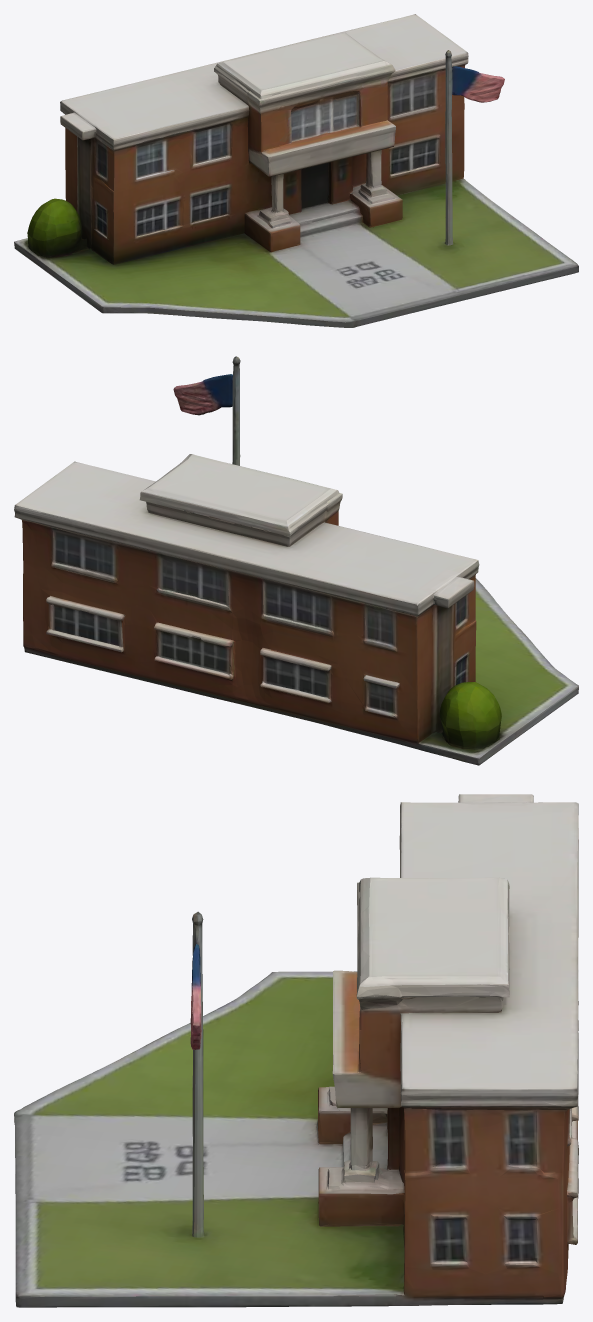
The model's file is school.glb.
3 views of the same model, one above another, from view 1: azimuth 30°, elevation 25°; view 2: azimuth 150°, elevation 25°; view 3: azimuth 270°, elevation 25° (orthographic). The views are drawn at different scales.
Visible parts, largest first — view 1: world; view 2: world; view 3: world.
Boxes of the visible parts, <box> form: world: <box>14,14,578,327</box>; world: <box>14,356,578,765</box>; world: <box>14,794,578,1307</box>.
Size of the model in its own units: 0.9955 by 0.4817 by 0.7223.
1 material, 1 textured.
